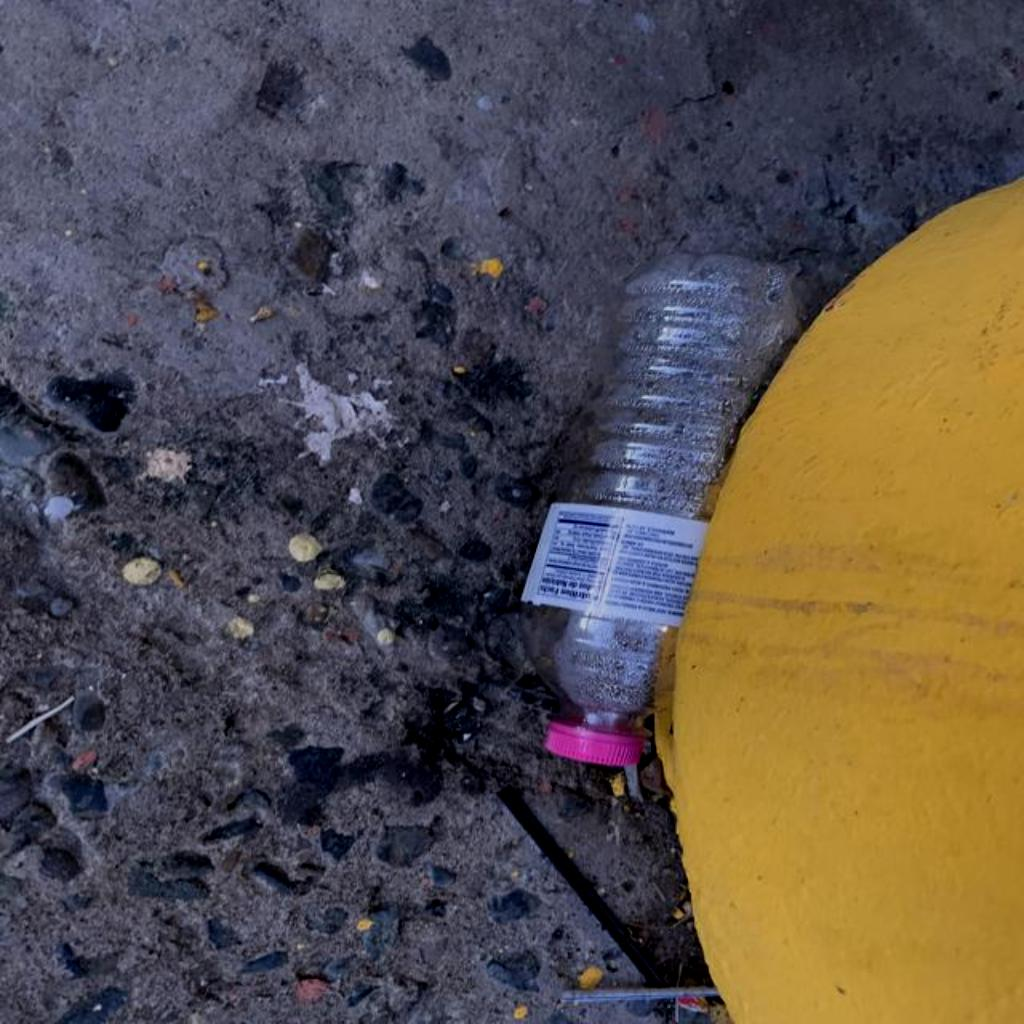garbage: (485, 206, 795, 814)
